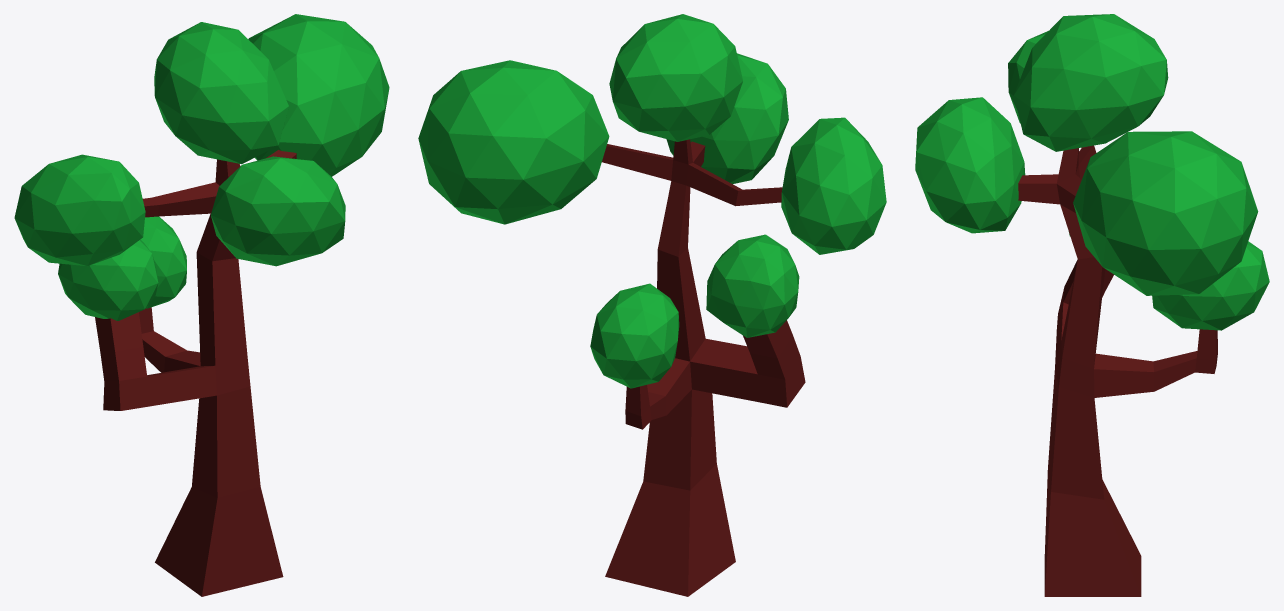
Rendered from Tree 1.3.fbx.
3 renders of one model, left to right at view 1: azimuth 30°, elevation 25°; view 2: azimuth 150°, elevation 25°; view 3: azimuth 270°, elevation 25°, orthographic. The views are drawn at different scales.
Parts seen in each view (by area): view 1: Cube; view 2: Cube; view 3: Cube.
Boxes of the visible parts, <box> form: Cube: <box>14,14,389,596</box>; Cube: <box>418,14,886,596</box>; Cube: <box>915,14,1269,596</box>.
Size of the model in its own units: 231 by 302 by 175.
